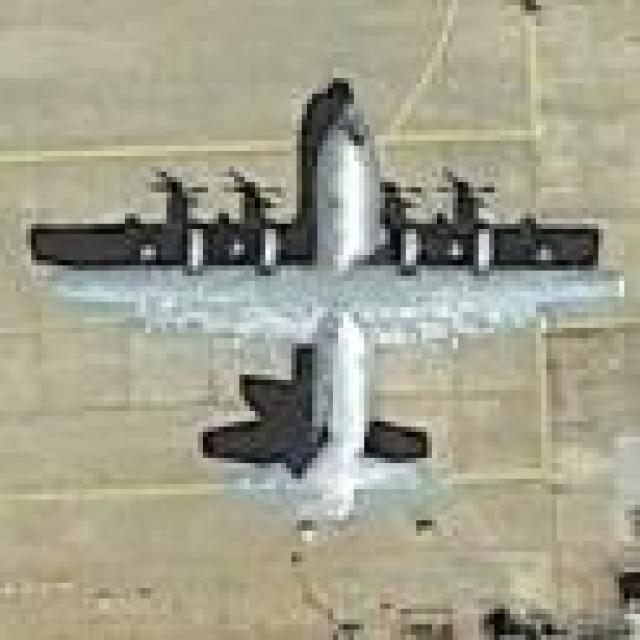C-130_TopDown: (21, 73, 633, 529)
